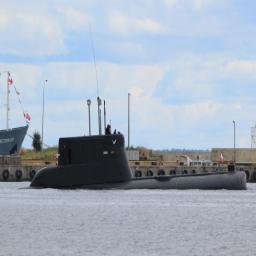submarine: (19, 132, 248, 193)
